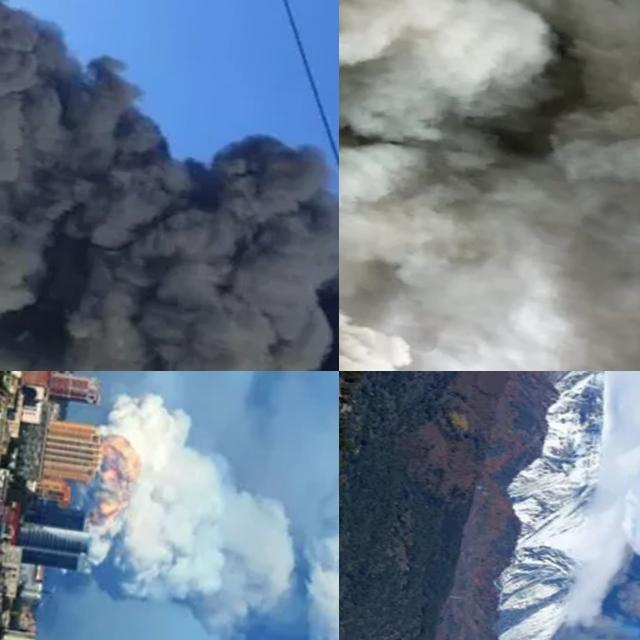smoke: (0, 0, 339, 371), (339, 0, 640, 371), (66, 400, 339, 640)
